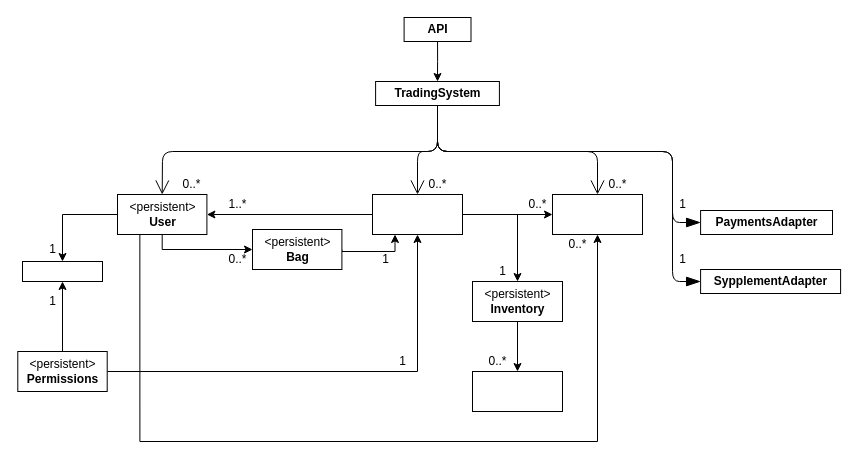
The diagram is 858 pixels wide and 467 high, and some of its shapes have lost their labels. The centre of each missing label's shape, as x and y in pixels:
<persistent> Product: the point at 517,391
<persistent> Receipt: the point at 597,214
<persistent> Store: the point at 417,214
Member: the point at 62,271
